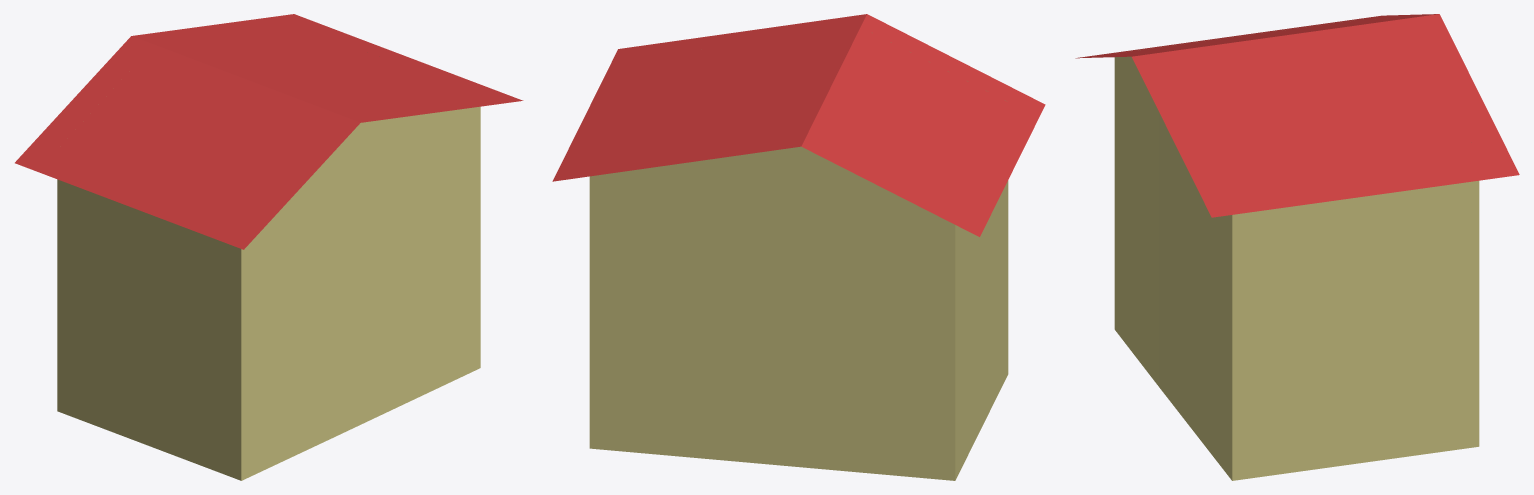
3 renders of one model, left to right at view 1: azimuth 30°, elevation 25°; view 2: azimuth 150°, elevation 25°; view 3: azimuth 270°, elevation 25°, orthographic. The views are drawn at different scales.
Bounding box in the file's own units: 8.14 × 6.97 × 5.83.
